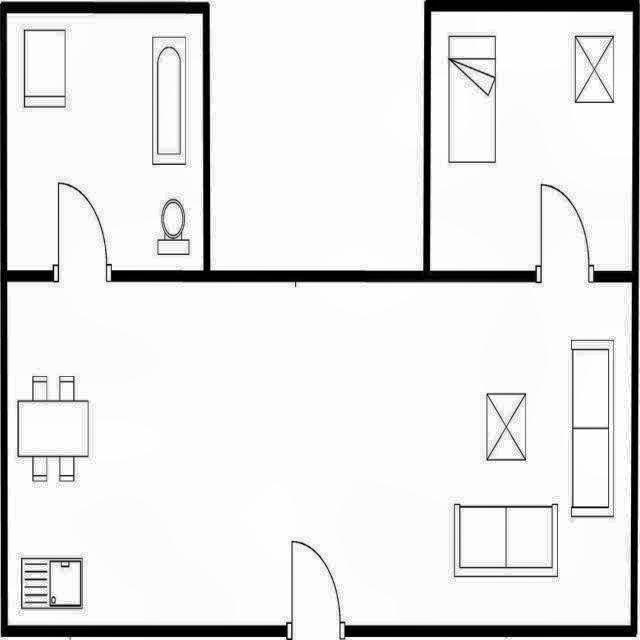room: (7, 281, 632, 626), (430, 11, 633, 270), (7, 13, 203, 271)
